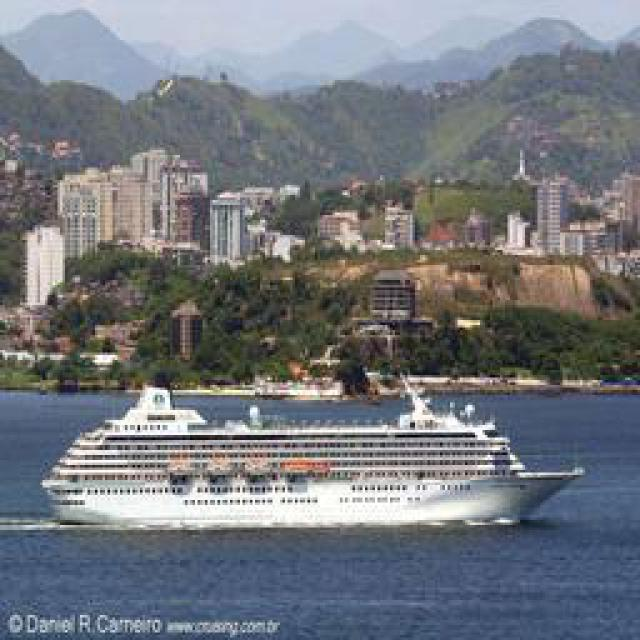Ship: (46, 375, 586, 535)
